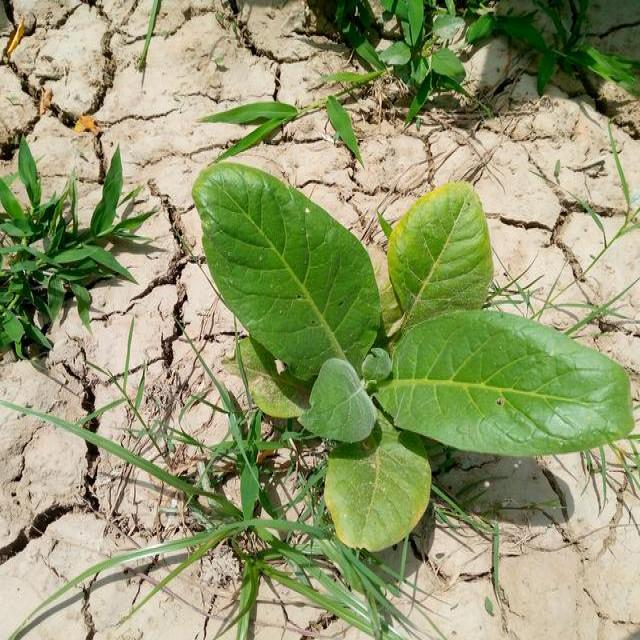crop: (192, 167, 622, 548)
